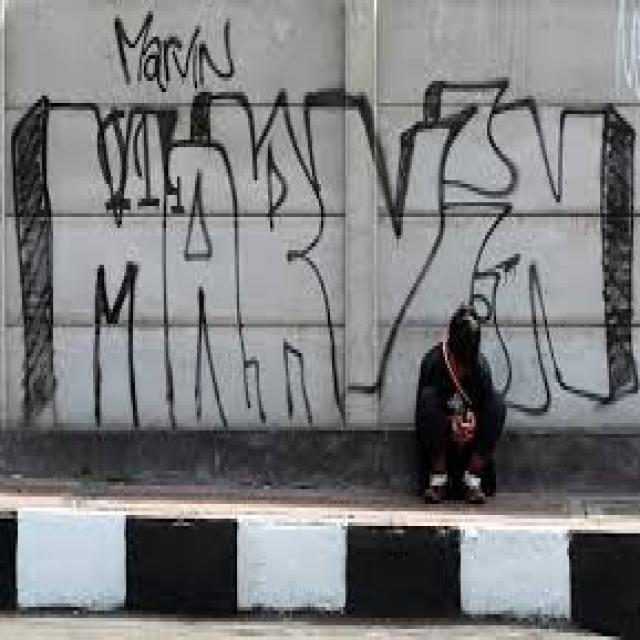-: (11, 81, 638, 428), (114, 12, 234, 88)
